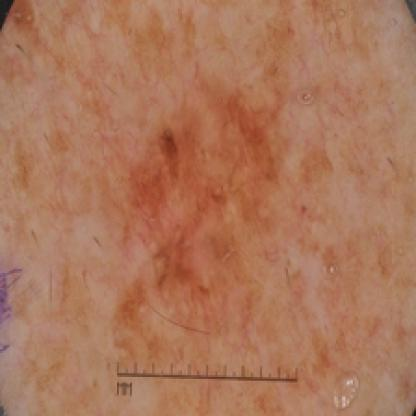malignant: (132, 130, 269, 308)
